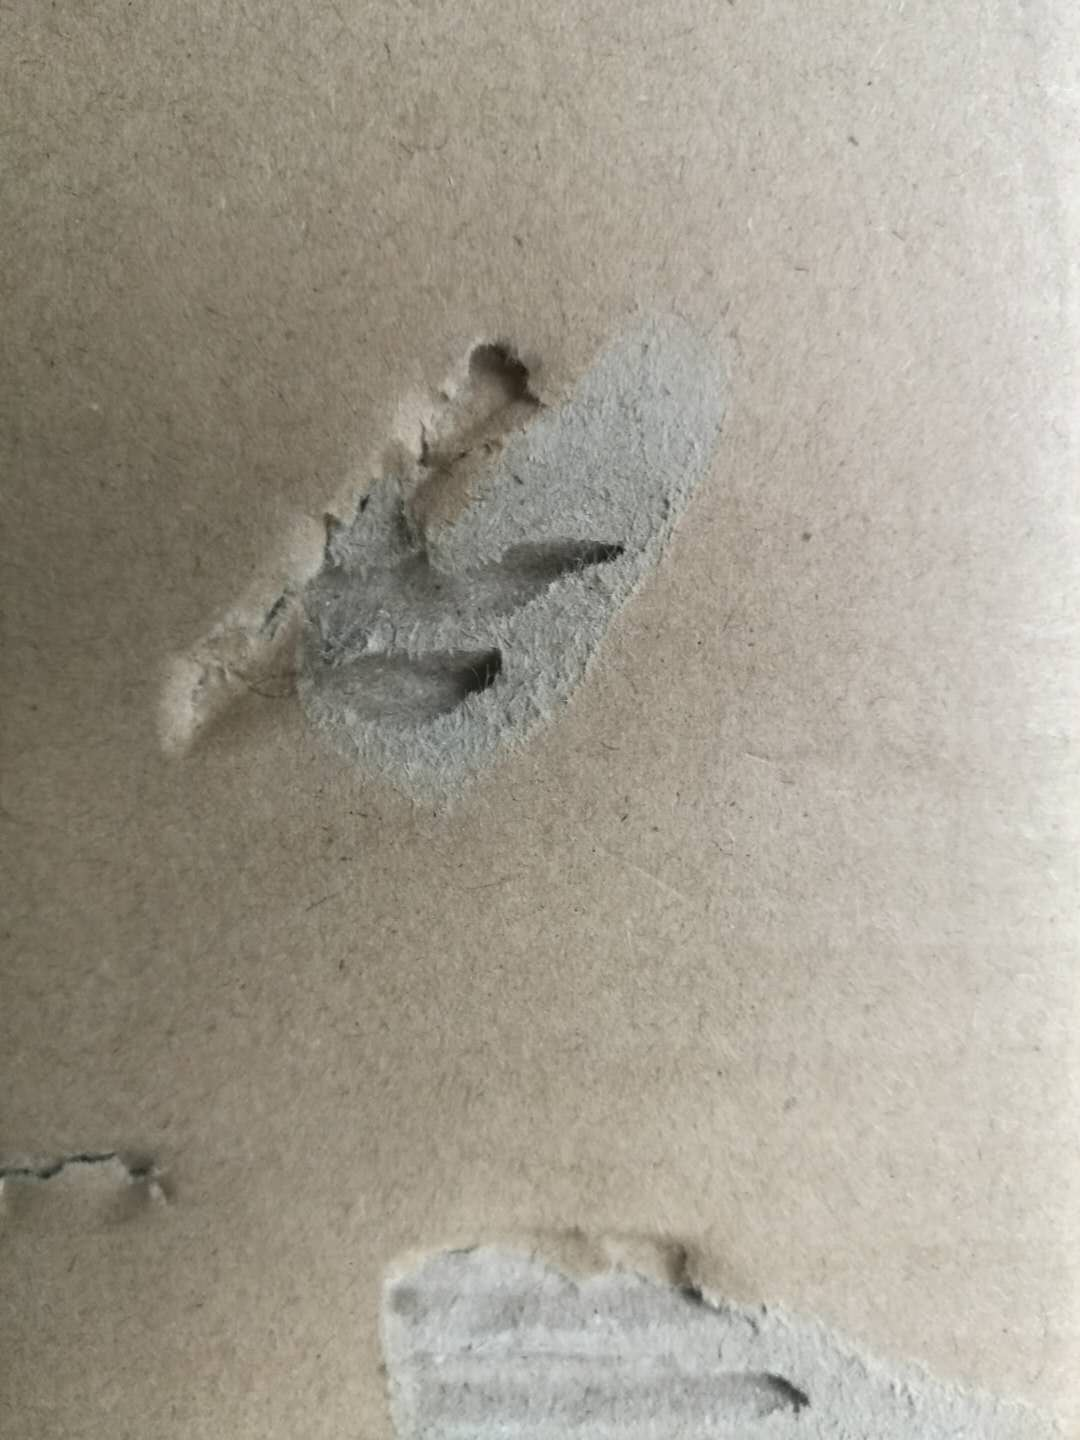defect: (128, 279, 773, 810), (349, 1192, 1080, 1438), (3, 1113, 263, 1257)
